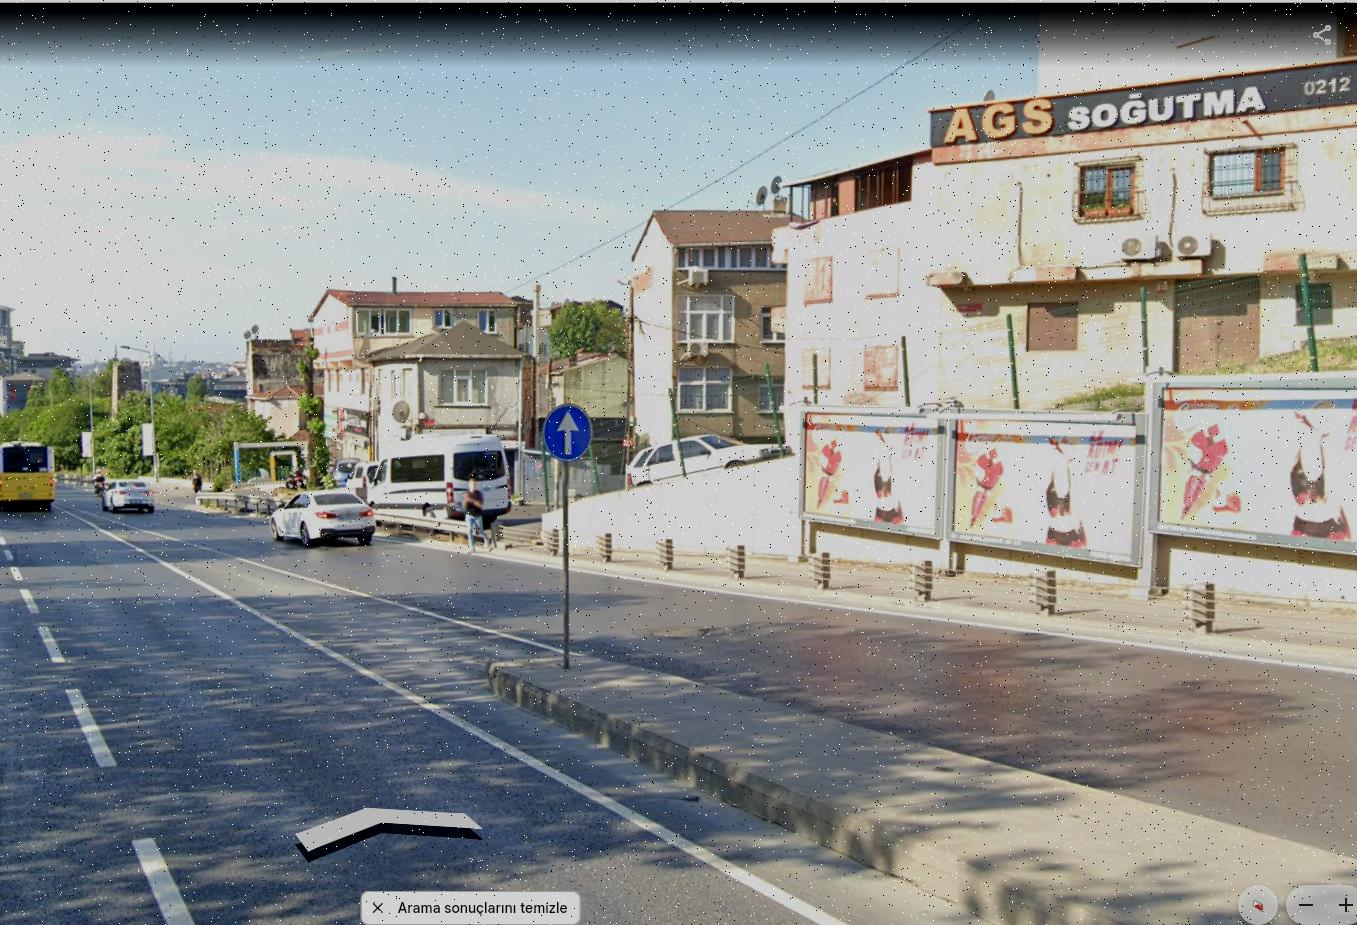forward: (541, 403, 594, 460)
